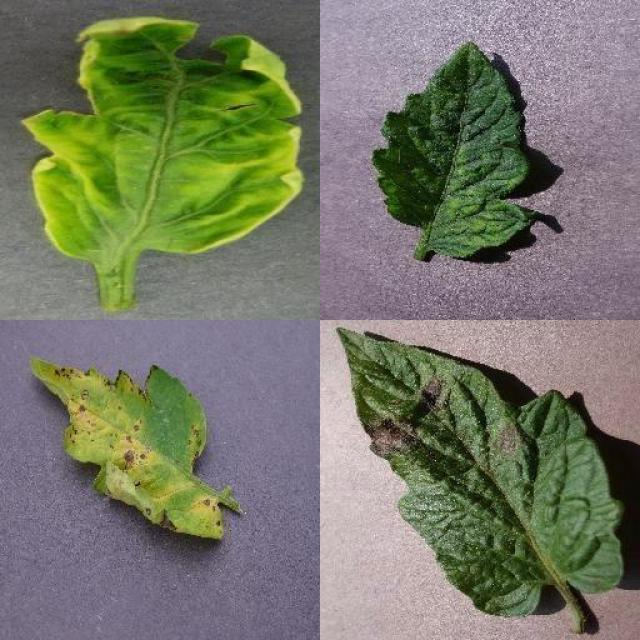Late Blight: (338, 323, 628, 618)
Septoria: (29, 355, 226, 543)
